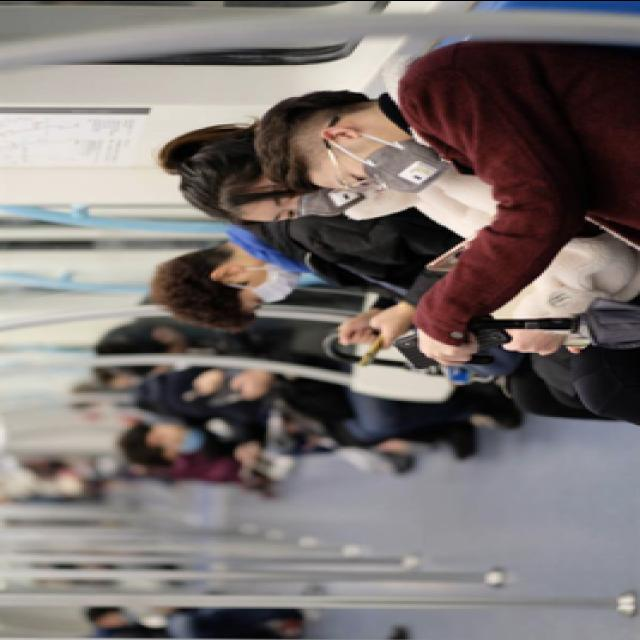mask: (331, 141, 446, 192), (266, 182, 366, 220), (242, 262, 300, 310), (164, 430, 204, 460)
